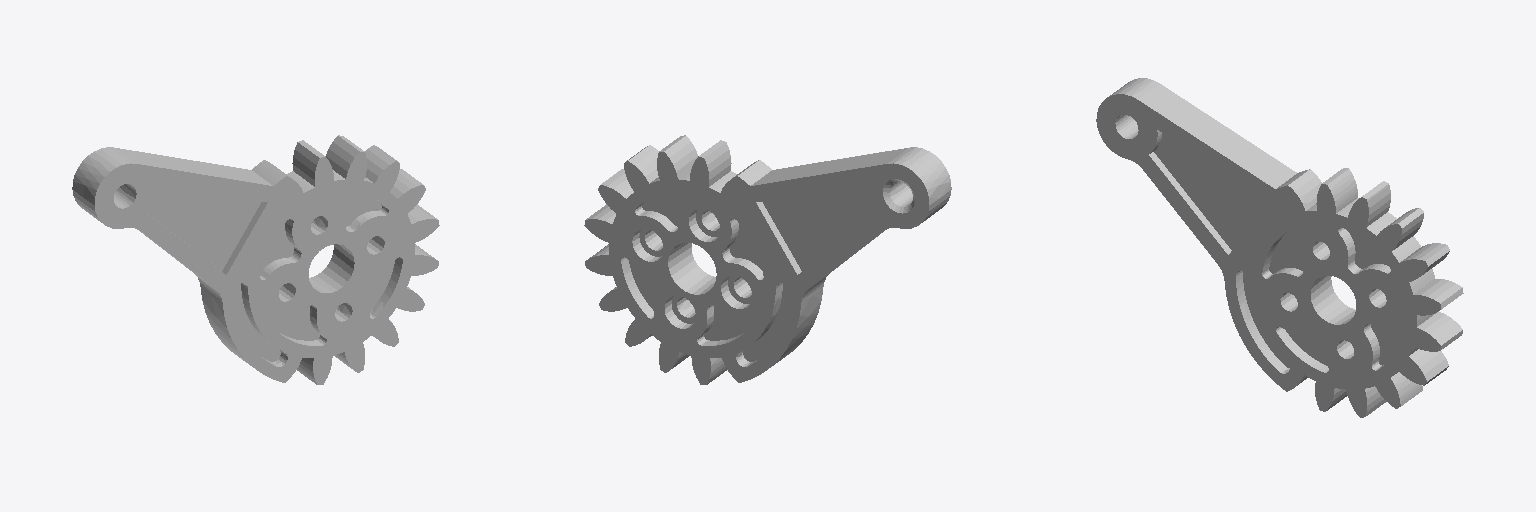
The model's file is gripper_left3.obj.
3 views of the same model, side by side, from view 1: azimuth 30°, elevation 25°; view 2: azimuth 150°, elevation 25°; view 3: azimuth 330°, elevation 25° (orthographic).
Parts seen in each view (by area): view 1: gripper_left3; view 2: gripper_left3; view 3: gripper_left3.
Boxes of the visible parts, x1,y1,x2,y2 form: gripper_left3: [72, 135, 439, 384]; gripper_left3: [584, 135, 951, 384]; gripper_left3: [1096, 78, 1463, 417].
Size of the model in its own units: 0.045 by 0.0335 by 0.005.